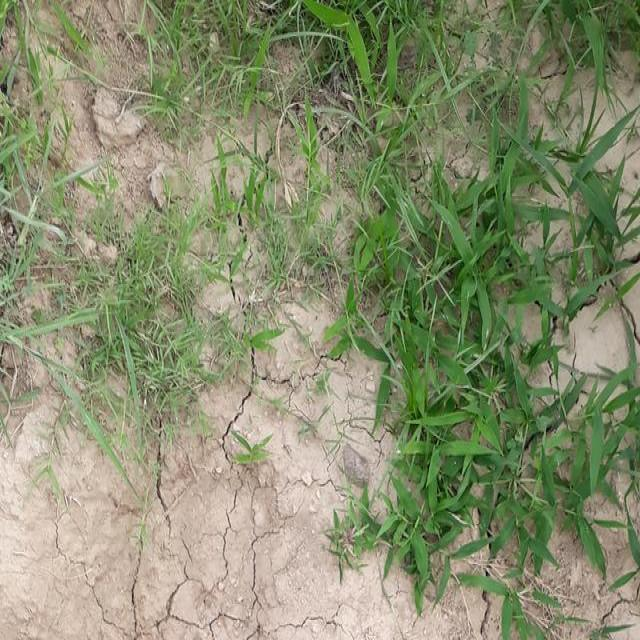weed: (359, 168, 640, 576), (158, 0, 640, 124), (79, 197, 255, 447)
